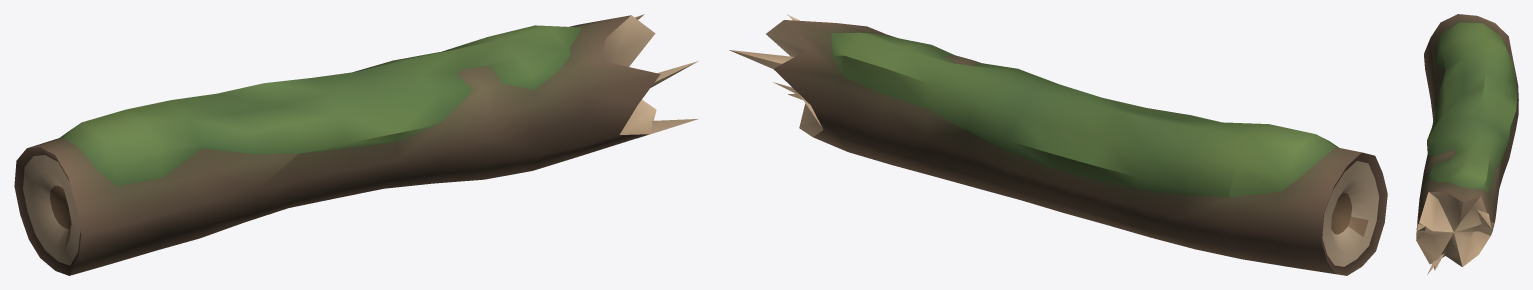
File: mossy_log.glb
3 renders of one model, left to right at view 1: azimuth 30°, elevation 25°; view 2: azimuth 150°, elevation 25°; view 3: azimuth 270°, elevation 25°, orthographic. The views are drawn at different scales.
Visible parts, largest first — view 1: MossyLog; view 2: MossyLog; view 3: MossyLog.
Boxes of the visible parts, x1,y1,x2,y2 form: MossyLog: [14, 14, 698, 275]; MossyLog: [729, 14, 1387, 275]; MossyLog: [1416, 14, 1518, 274].
Size of the model in its own units: 1.59 by 0.3031 by 0.3478.
